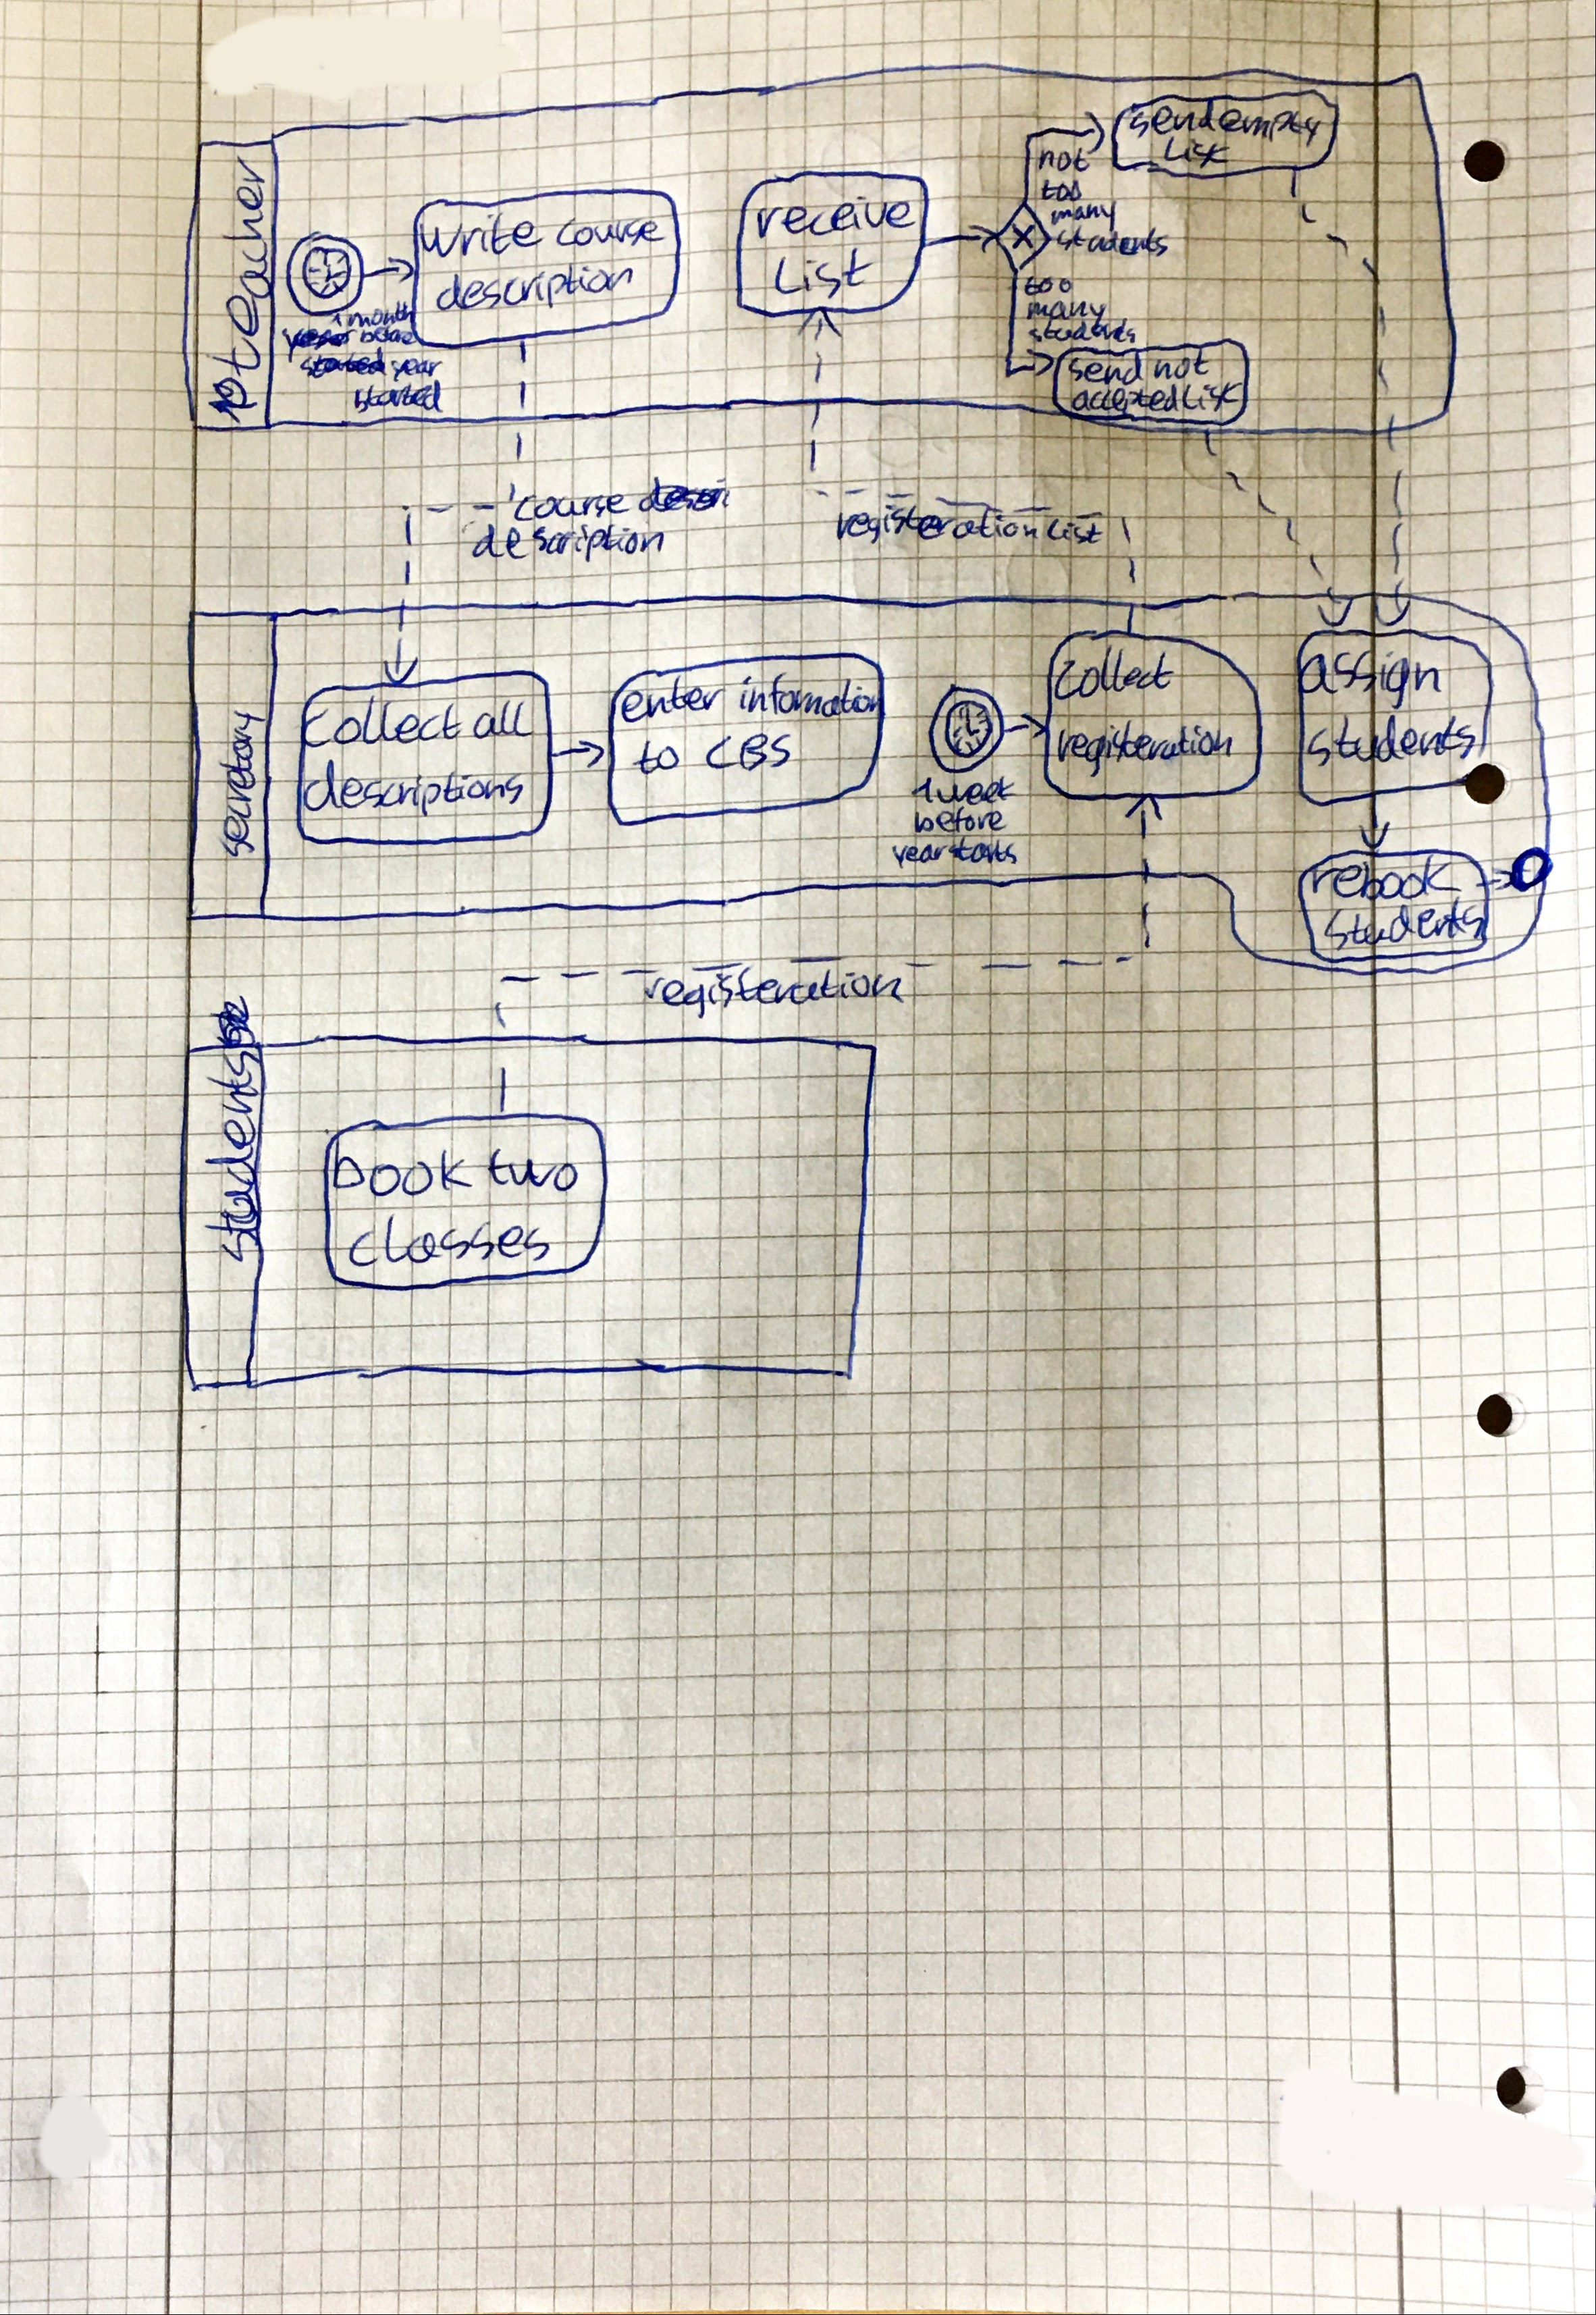1: (911, 776, 936, 805), (327, 314, 344, 328)
CBS: (705, 733, 791, 772)
Collect: (301, 697, 460, 750), (1048, 653, 1173, 703)
List: (770, 255, 872, 303)
Students: (1321, 909, 1482, 957)
accepted: (1071, 384, 1179, 416)
all: (473, 699, 535, 739)
assign: (1299, 646, 1444, 705)
before: (913, 806, 1006, 834), (360, 325, 416, 346)
book: (334, 1135, 475, 1194)
classes: (346, 1215, 548, 1269)
course: (512, 495, 629, 523), (556, 217, 665, 247)
description: (433, 274, 632, 319), (471, 523, 664, 562)
descriptions: (302, 760, 525, 818)
empty: (1222, 100, 1325, 136)
enter: (617, 681, 724, 726)
information: (739, 671, 887, 715)
list: (1179, 385, 1244, 416), (1164, 136, 1232, 165), (1046, 517, 1104, 543)
many: (1026, 300, 1108, 324), (1050, 203, 1118, 231)
month: (346, 309, 413, 331)
not: (1151, 352, 1210, 383), (1036, 147, 1091, 174)
rebook: (1310, 860, 1461, 907)
receive: (755, 203, 915, 242)
registeration: (642, 971, 905, 1021), (1056, 719, 1234, 779), (835, 502, 1040, 543)
secretary: (218, 710, 265, 858)
send: (1128, 105, 1216, 140), (1066, 352, 1146, 388)
starts: (948, 836, 1019, 863)
students: (200, 1052, 259, 1262), (1305, 716, 1474, 768), (1055, 224, 1169, 255), (1029, 317, 1136, 343)
teacher: (210, 155, 272, 377)
to: (631, 739, 680, 776)
too: (1021, 275, 1073, 296), (1040, 179, 1084, 203)
two: (487, 1147, 581, 1187)
week: (936, 778, 1017, 807)
write: (419, 213, 543, 259)
year: (891, 843, 949, 870), (391, 358, 444, 383)
